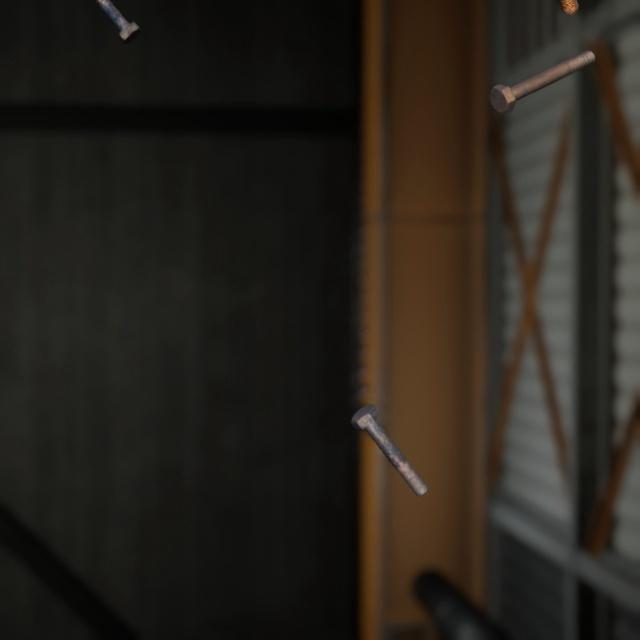bolt: (346, 380, 432, 481), (484, 35, 599, 107), (95, 0, 144, 41)
